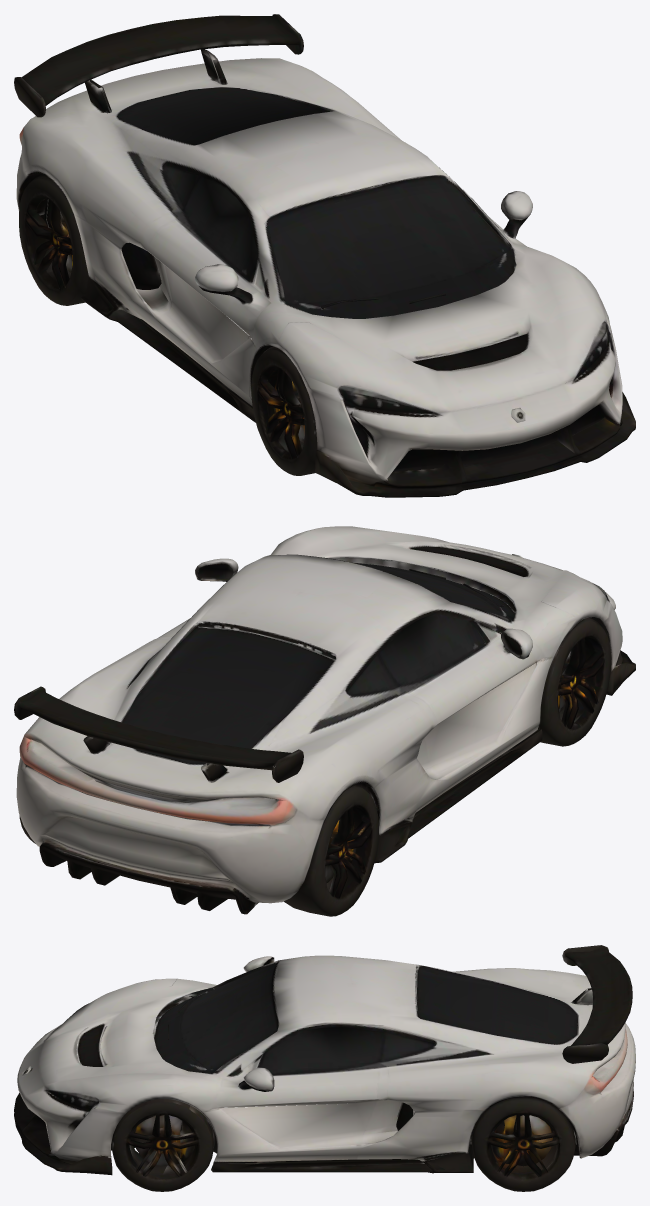
Rendered from a_sports_car_ddd70906_v3.glb.
3 views of the same model, one above another, from view 1: azimuth 30°, elevation 25°; view 2: azimuth 150°, elevation 25°; view 3: azimuth 270°, elevation 25° (orthographic). The views are drawn at different scales.
Parts seen in each view (by area): view 1: material; view 2: material; view 3: material.
Part boxes in pixels (x1,y1,x2,y2): material: (14,14,635,497); material: (14,526,635,916); material: (14,945,635,1191).
Size of the model in its own units: 0.908 by 0.5331 by 1.9.
1 material, 1 textured.
